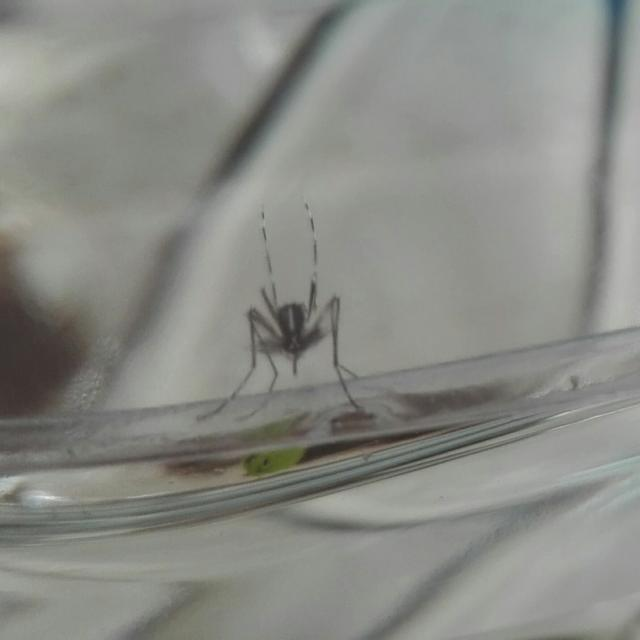albopictus: (185, 192, 388, 425)
